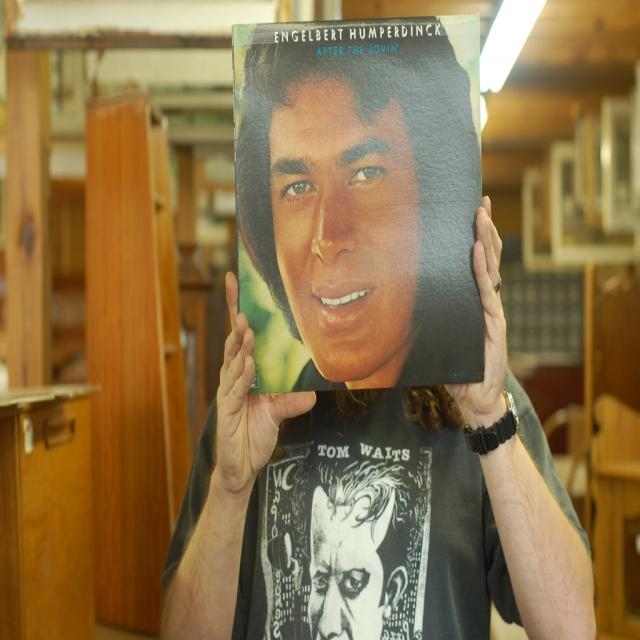desk: (0, 382, 101, 640)
person: (154, 19, 600, 633)
